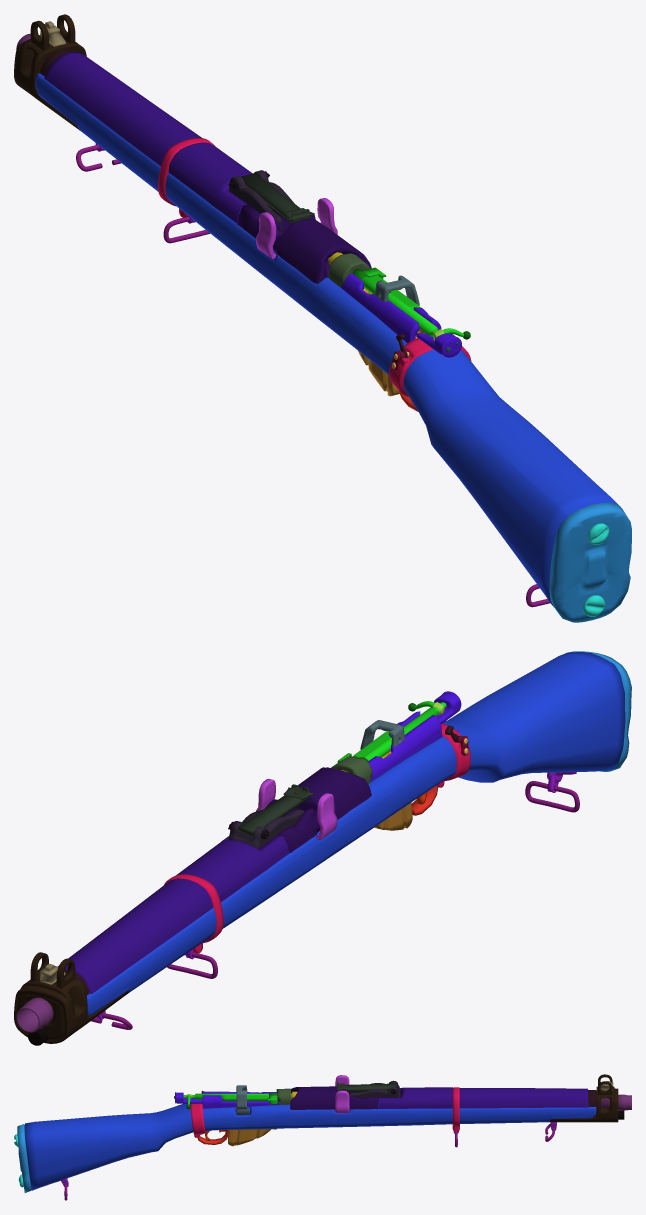
The model's file is Dx01_1_Enfield_MK3_transformF_static_exp.fbx.
The picture shows the model from 3 angles, top to bottom: view 1: azimuth 30°, elevation 25°; view 2: azimuth 150°, elevation 25°; view 3: azimuth 270°, elevation 25°; orthographic projection. The views are drawn at different scales.
Visible parts, largest first — view 1: dx_HandBaseGun_LOW; view 2: dx_HandBaseGun_LOW; view 3: dx_HandBaseGun_LOW.
Boxes of the visible parts, <box> form: dx_HandBaseGun_LOW: <box>14,14,631,622</box>; dx_HandBaseGun_LOW: <box>14,651,631,1045</box>; dx_HandBaseGun_LOW: <box>14,1074,631,1200</box>.
Bounding box in the file's own units: 15.9 × 41.46 × 199.
